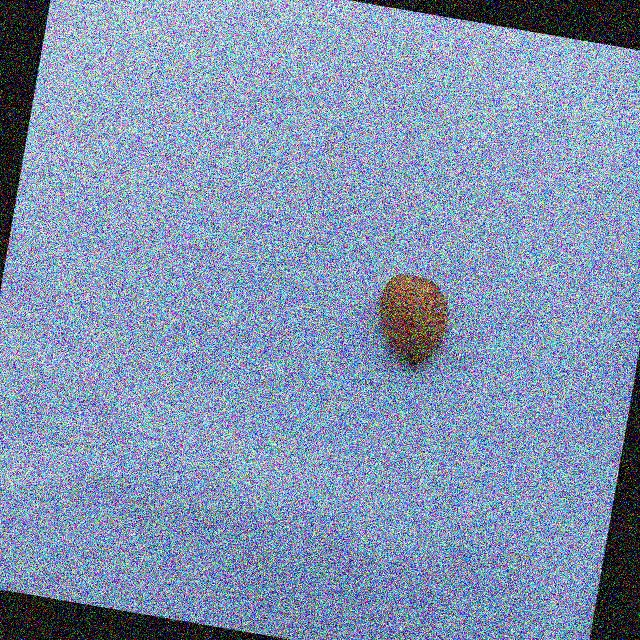grade2: (363, 266, 458, 375)
